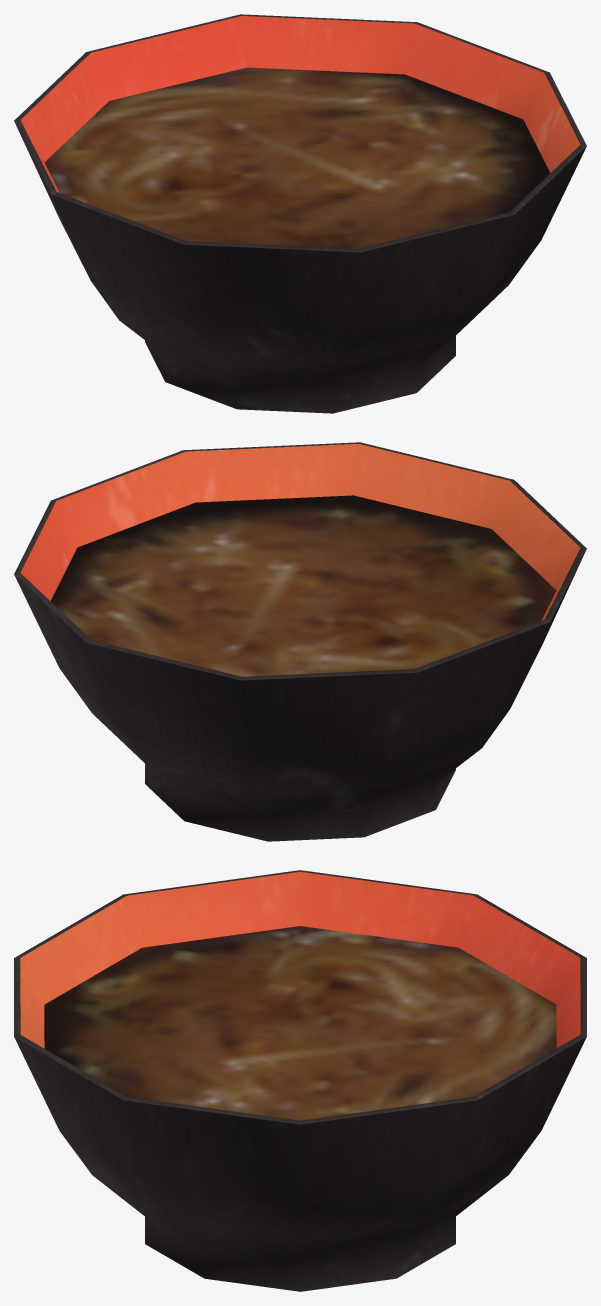
File: dinerfoods02.fbx
3 views of the same model, one above another, from view 1: azimuth 30°, elevation 25°; view 2: azimuth 150°, elevation 25°; view 3: azimuth 270°, elevation 25° (orthographic). The views are drawn at different scales.
Parts seen in each view (by area): view 1: dinerfoods02; view 2: dinerfoods02; view 3: dinerfoods02.
Boxes of the visible parts, x1,y1,x2,y2 form: dinerfoods02: [14, 14, 586, 413]; dinerfoods02: [14, 442, 586, 841]; dinerfoods02: [14, 870, 586, 1291].
Size of the model in its own units: 20.06 by 8.33 by 19.08.
